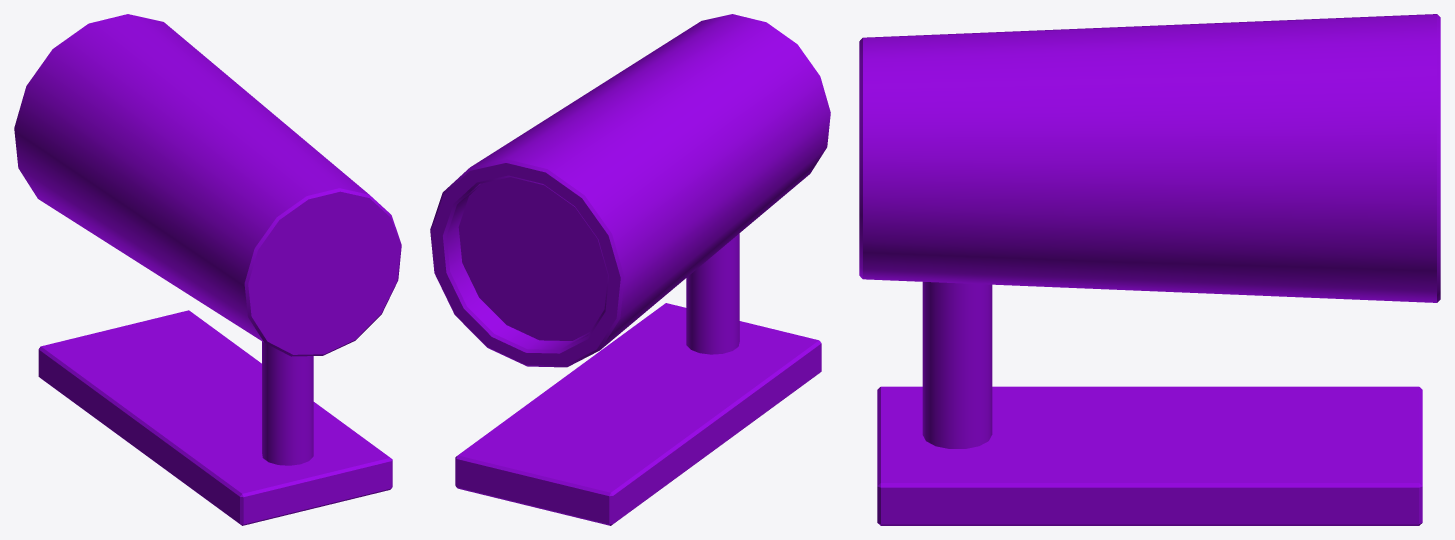
File: Mesh_Spot.fbx
The picture shows the model from 3 angles, left to right: view 1: azimuth 30°, elevation 25°; view 2: azimuth 150°, elevation 25°; view 3: azimuth 270°, elevation 25°; orthographic projection. The views are drawn at different scales.
Visible parts, largest first — view 1: spot_low; view 2: spot_low; view 3: spot_low.
Boxes of the visible parts, x1=… form: spot_low: x1=14, y1=14, x2=401, y2=525; spot_low: x1=430, y1=14, x2=830, y2=525; spot_low: x1=859, y1=14, x2=1440, y2=525.
Size of the model in its own units: 8.33 by 14.26 by 16.7.
